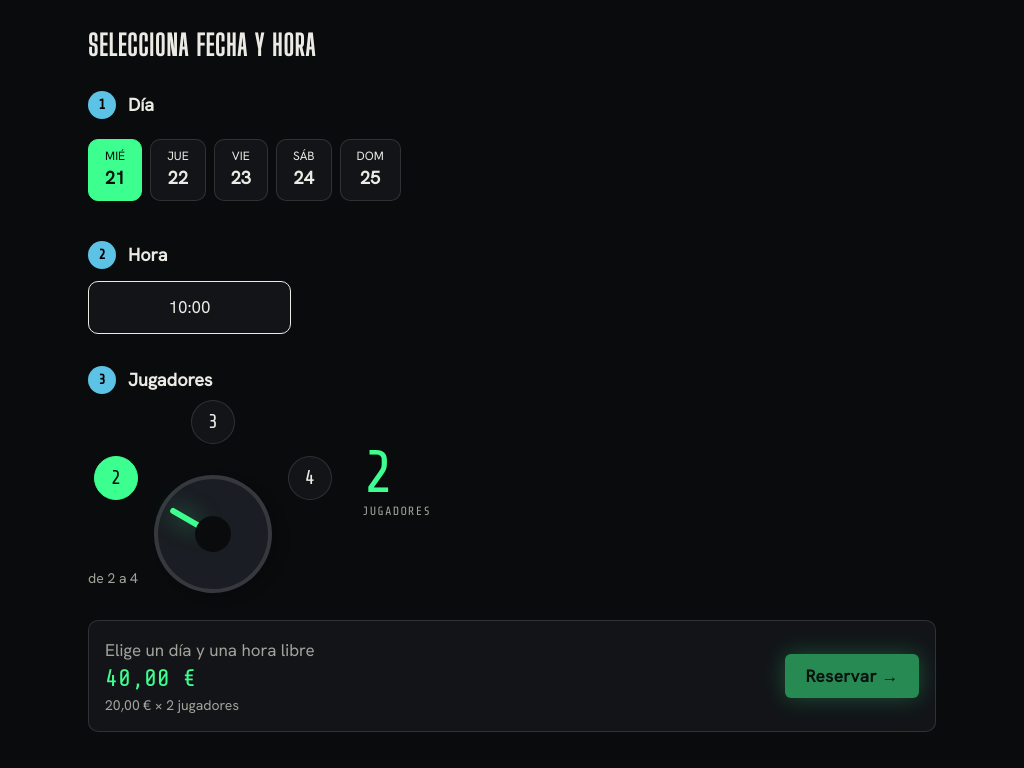
Booking flow › lets the user pick a slot, reach checkout and see the room in the checkout
Click the button "10:00" at point(190, 308), box left=88, top=281, right=291, bottom=334
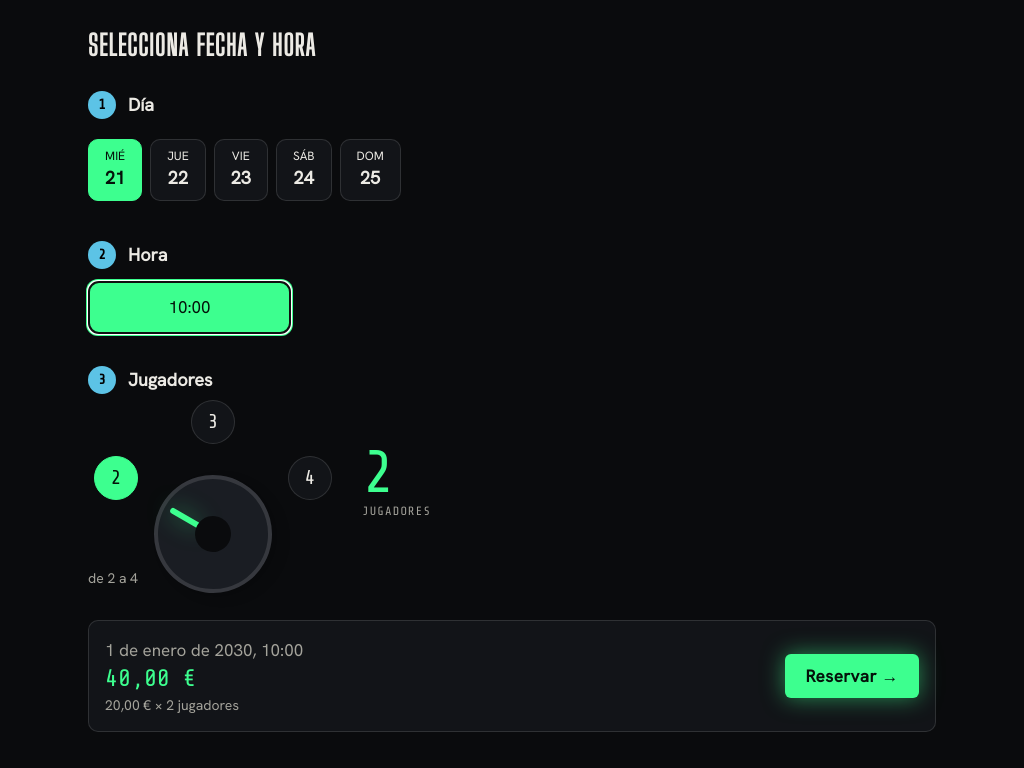
Click the button "Reservar →" at point(852, 676), box left=785, top=654, right=919, bottom=698
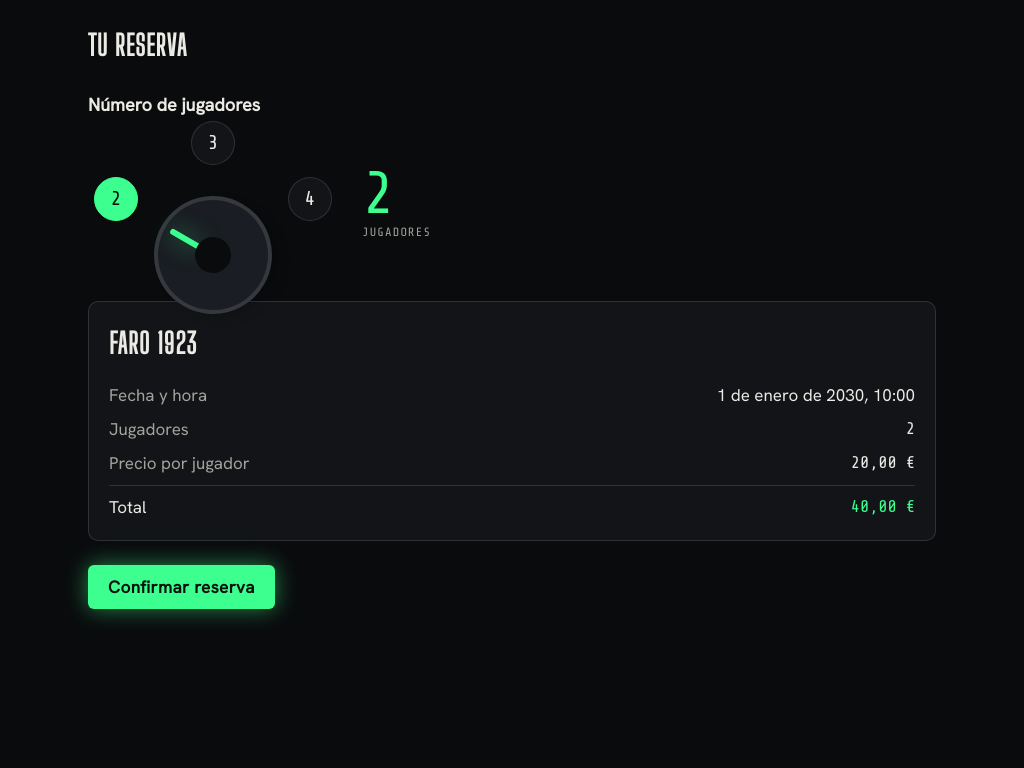
Now the button "Confirmar reserva" is enabled, box left=88, top=565, right=275, bottom=609
Now the heading "Tu reserva" is shown, box left=88, top=28, right=187, bottom=62
